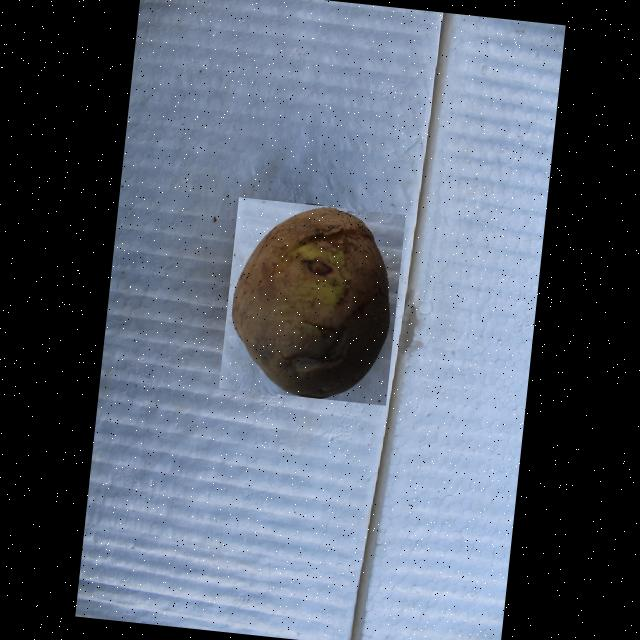Diseased-fungal potato: (218, 196, 406, 404)
